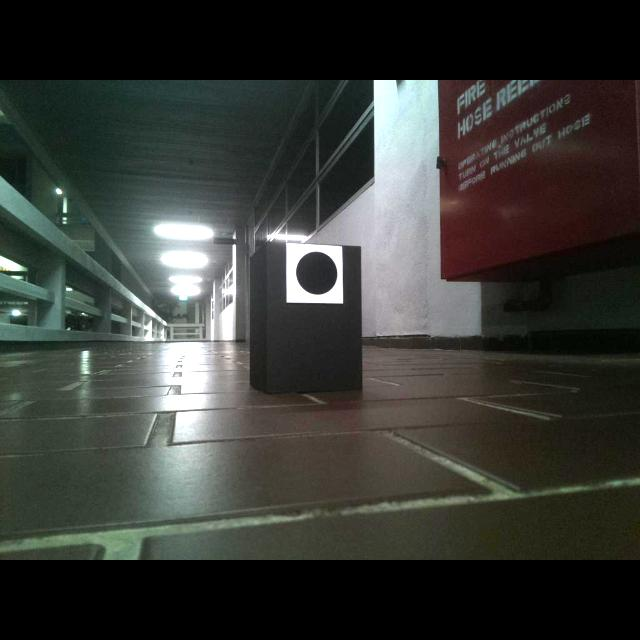CIRCLE: (295, 250, 340, 296)
